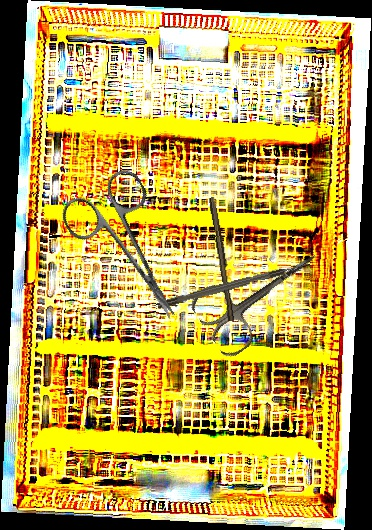Hook Surgical: (156, 260, 310, 310)
Iris Scissors: (55, 164, 208, 341), (186, 226, 337, 362)
Scalpel Handle: (206, 196, 239, 322)
